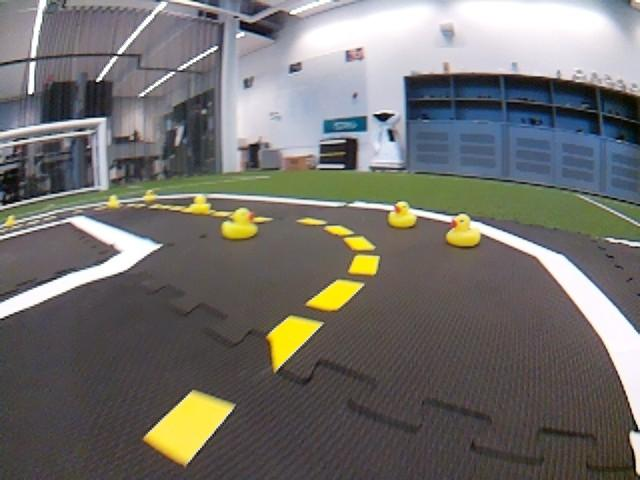Duckies: (220, 207, 258, 240), (444, 214, 480, 248), (387, 202, 417, 228), (188, 195, 211, 215), (142, 190, 156, 202), (107, 196, 121, 208), (3, 215, 17, 226)
